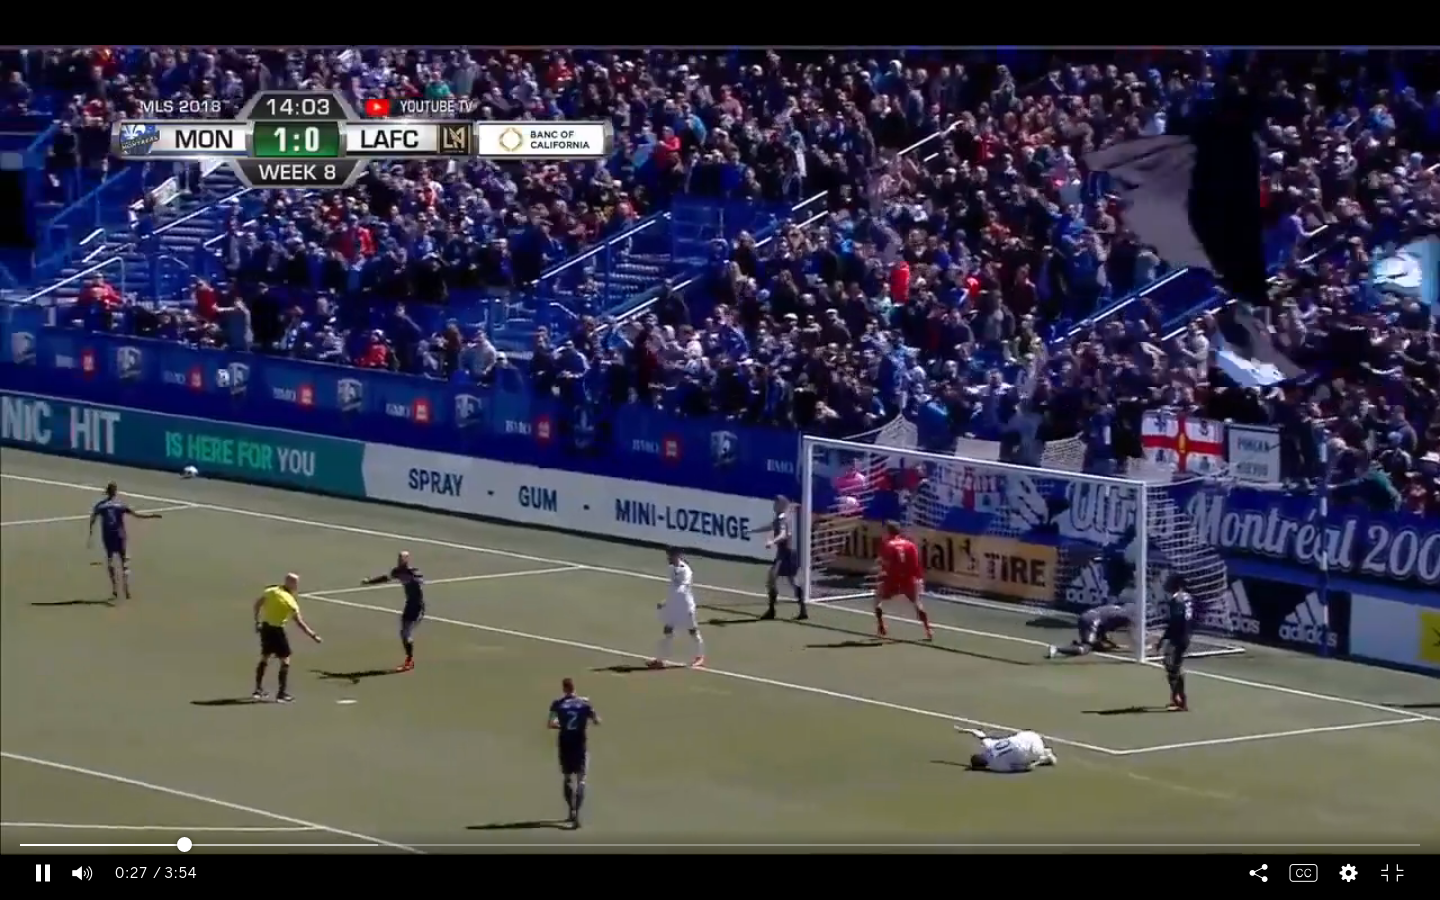referee: (253, 572, 321, 708)
soccer player: (85, 477, 170, 612), (741, 494, 816, 623), (358, 551, 433, 674), (870, 512, 938, 646), (547, 671, 602, 837), (647, 545, 712, 677), (1152, 576, 1201, 714), (1047, 605, 1156, 662), (952, 722, 1062, 777)
soccerball: (181, 462, 199, 479)
